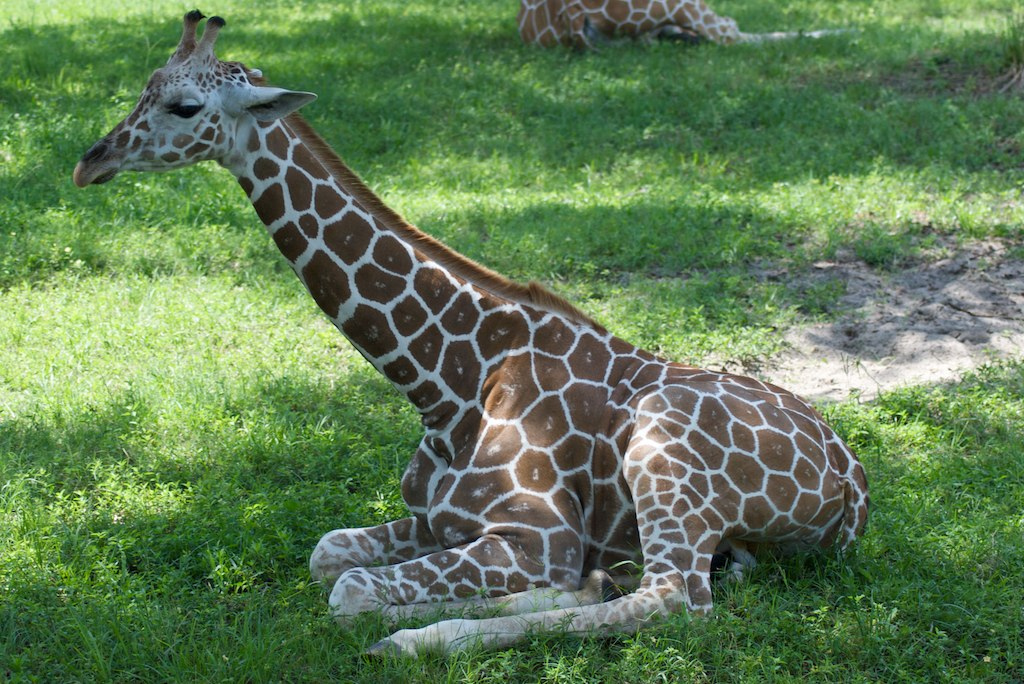giraffe: (83, 26, 879, 668)
